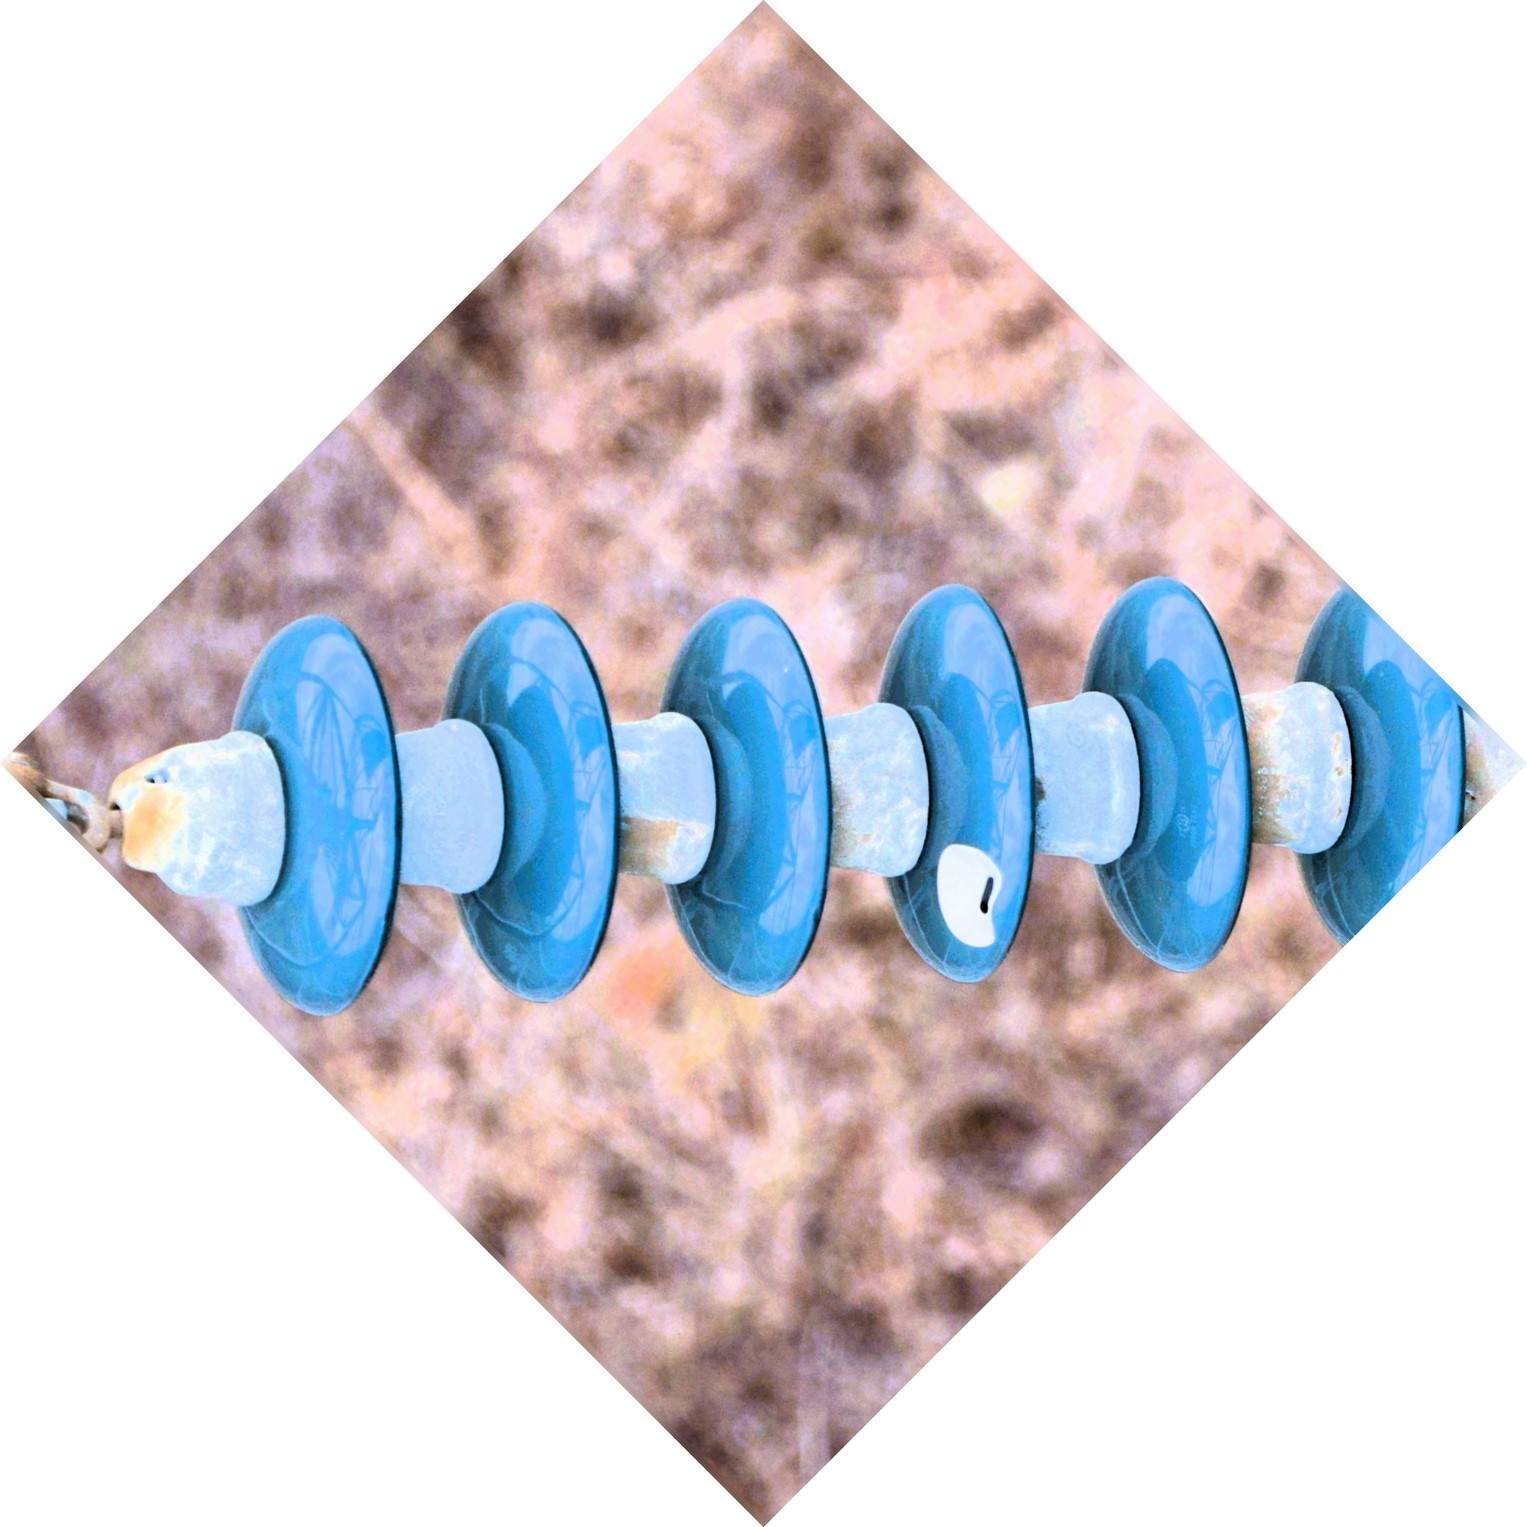insulator breakage: (868, 571, 1047, 984)
